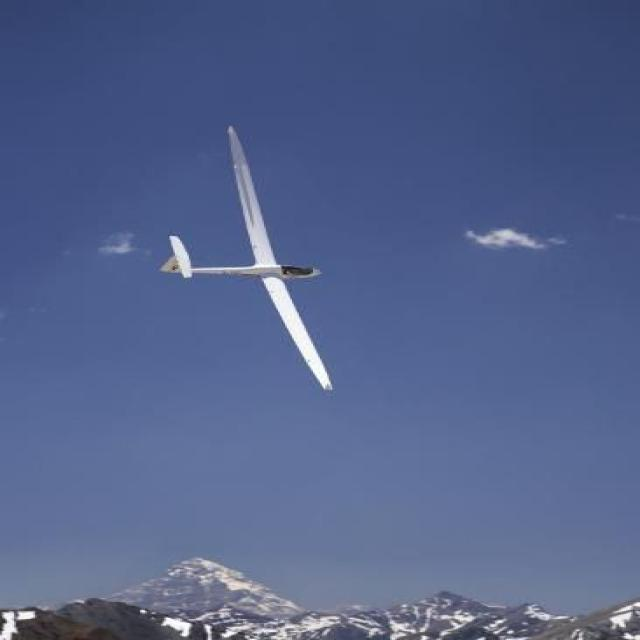iha: (157, 123, 339, 395)
